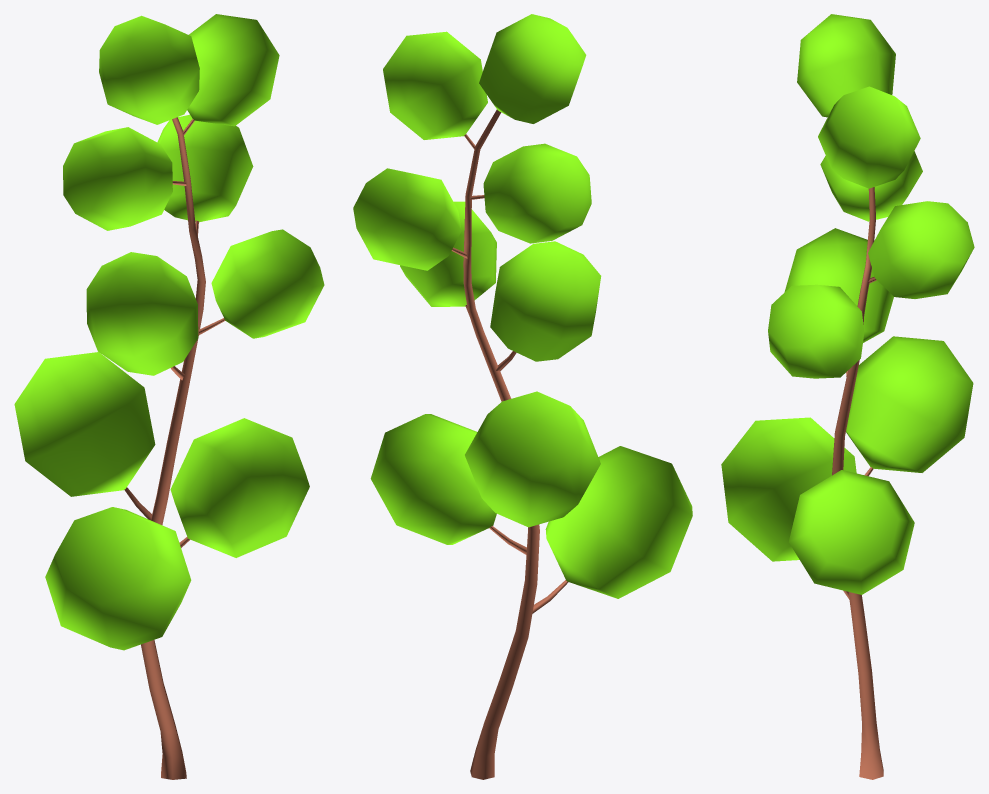
The model's file is Tree_Bobo5.fbx.
3 renders of one model, left to right at view 1: azimuth 30°, elevation 25°; view 2: azimuth 150°, elevation 25°; view 3: azimuth 270°, elevation 25°, orthographic. The views are drawn at different scales.
Visible parts, largest first — view 1: Mesh; view 2: Mesh; view 3: Mesh.
Part boxes in pixels (x1,y1,x2,y2): Mesh: (14, 14, 324, 779); Mesh: (353, 14, 692, 779); Mesh: (721, 14, 974, 779).
Size of the model in its own units: 1472 by 3929 by 1225.
